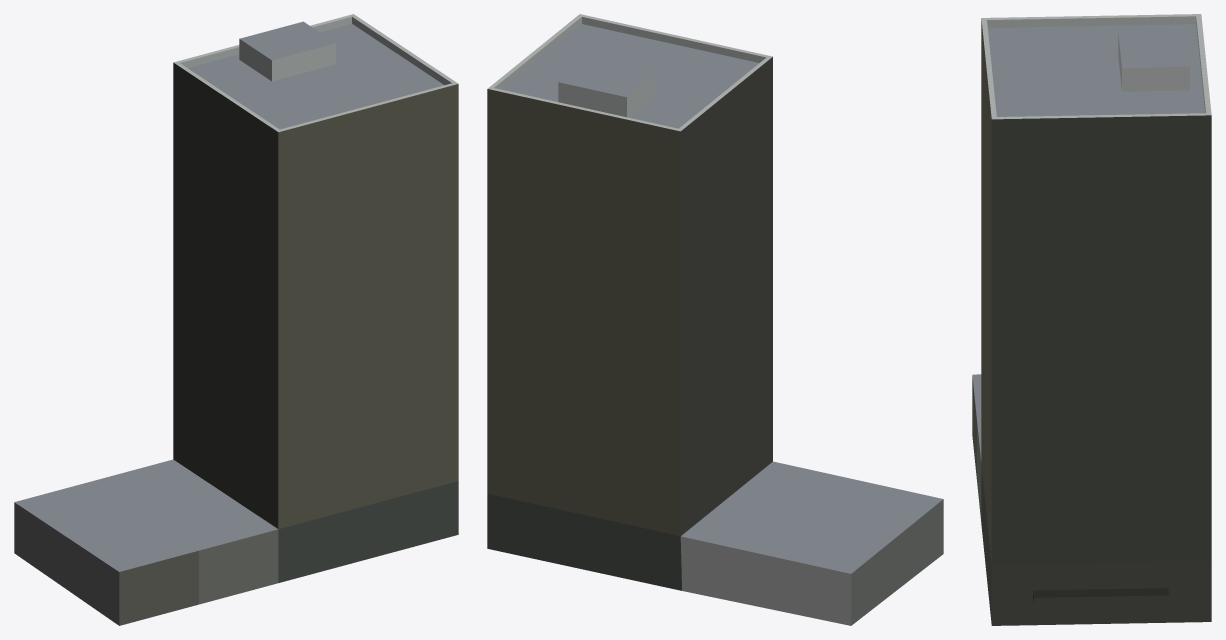
Rendered from republic-building.glb.
3 views of the same model, side by side, from view 1: azimuth 30°, elevation 25°; view 2: azimuth 150°, elevation 25°; view 3: azimuth 270°, elevation 25° (orthographic). The views are drawn at different scales.
Parts seen in each view (by area): view 1: LOD0; view 2: LOD0; view 3: LOD0.
Part boxes in pixels (left/top/right/bottom): LOD0: left=14, top=14, right=458, bottom=625; LOD0: left=487, top=14, right=943, bottom=625; LOD0: left=972, top=14, right=1211, bottom=625.
Size of what is drawn, in the model's own units: 66.55 by 80.48 by 33.41.
1 material, 1 textured.
